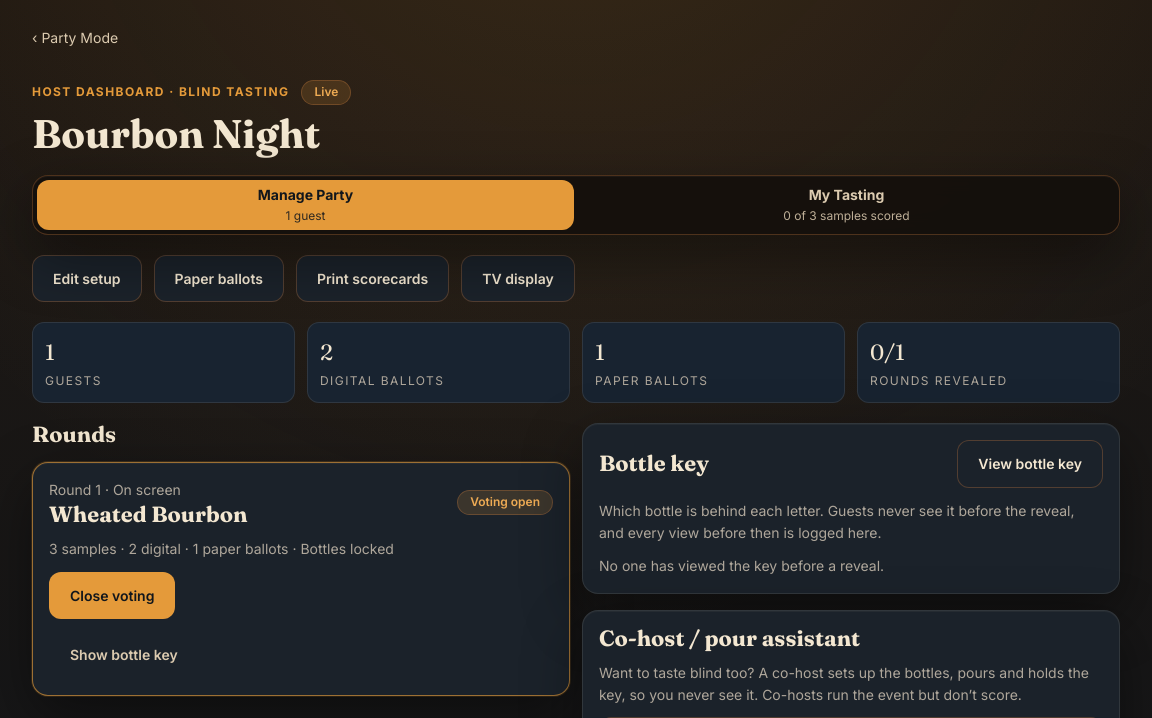
HostDashboardPage › when the host is tasting too › switches with one tap, keeps admin controls out of My Tasting, and stays blind
What coordinates should you click on to do the following:
click the tab "My Tasting 0 of 3 samples scored"
I would click on:
 (846, 205)
Its box is [578, 180, 1115, 230].
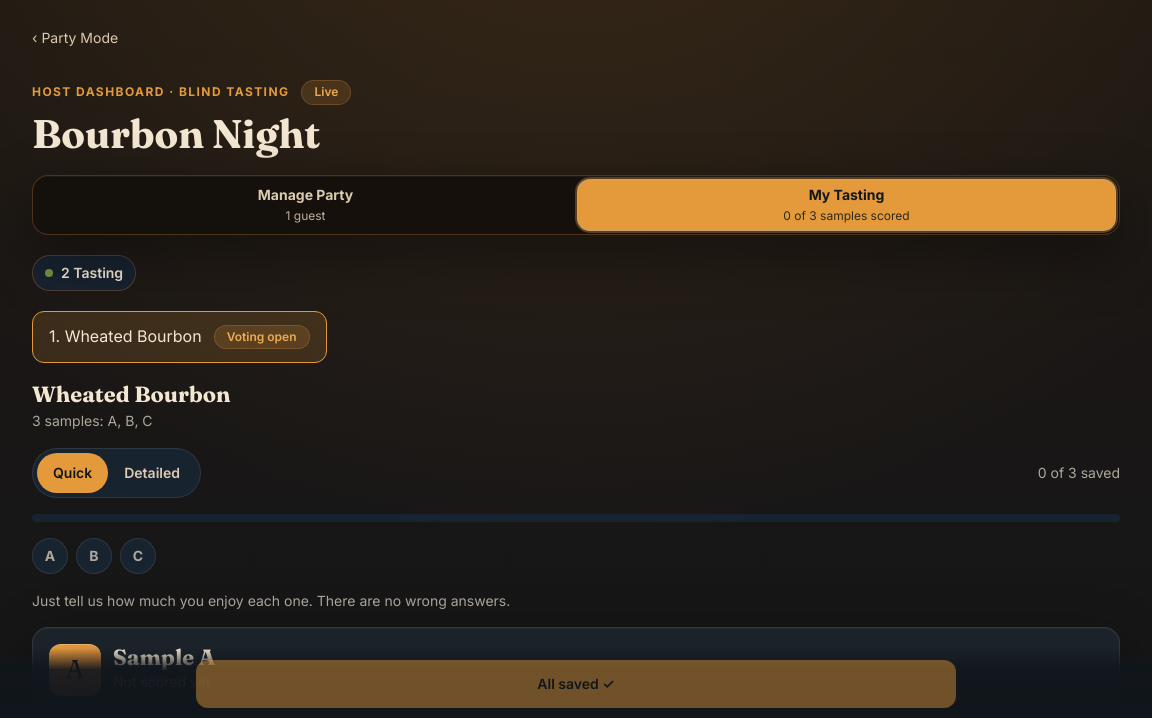
expect the heading "Sample A" is shown: met, box [113, 643, 215, 671]
expect the button "Close voting" is gone: met
What coordinates should you click on to do the following:
click the tab "Manage Party 1 guest"
I would click on:
 (306, 205)
Its box is [37, 180, 574, 230].
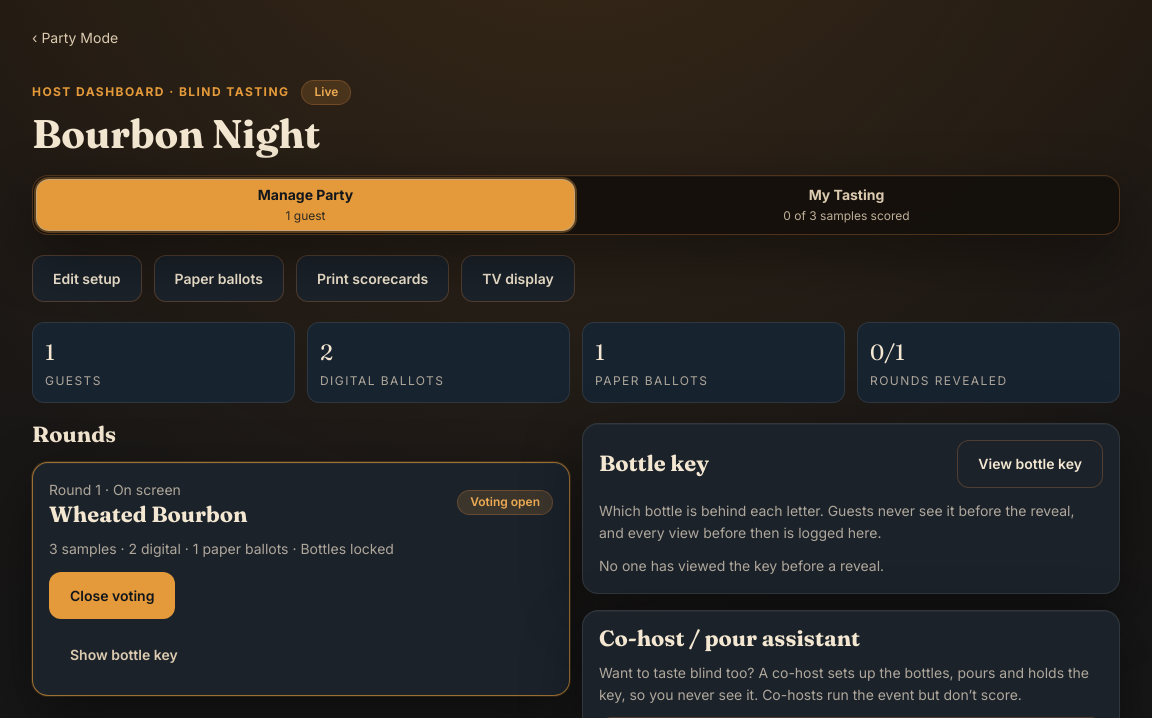
expect the button "Close voting" is shown: met, box [49, 572, 175, 619]
